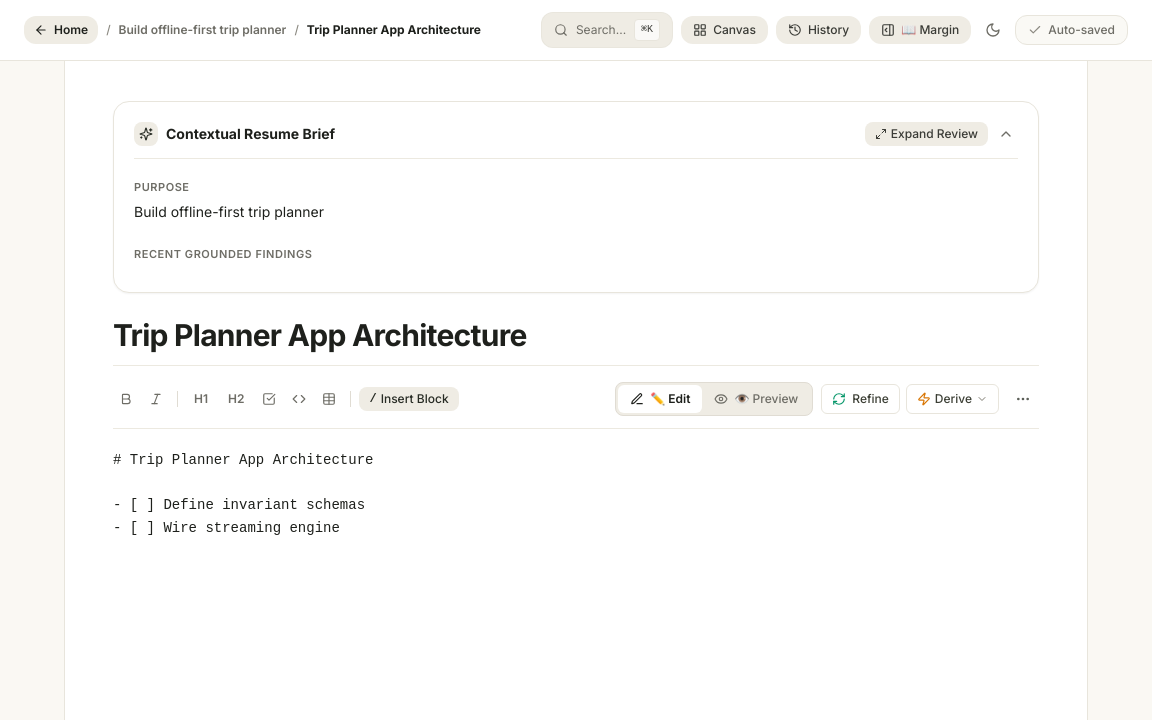
Test: FocusView Layout & Notion-Style Slash Command Experience › renders FocusView in full-height full-width workspace with generous document canvas and collapsible sidebar
Expected: the field with test id "input-artifact-title" holds "Trip Planner App Architecture", [113,317,1039,353]
# Click to open margin
Click the button with test id "btn-toggle-epistemic-margin" at [920, 30], box [869,16,971,44]
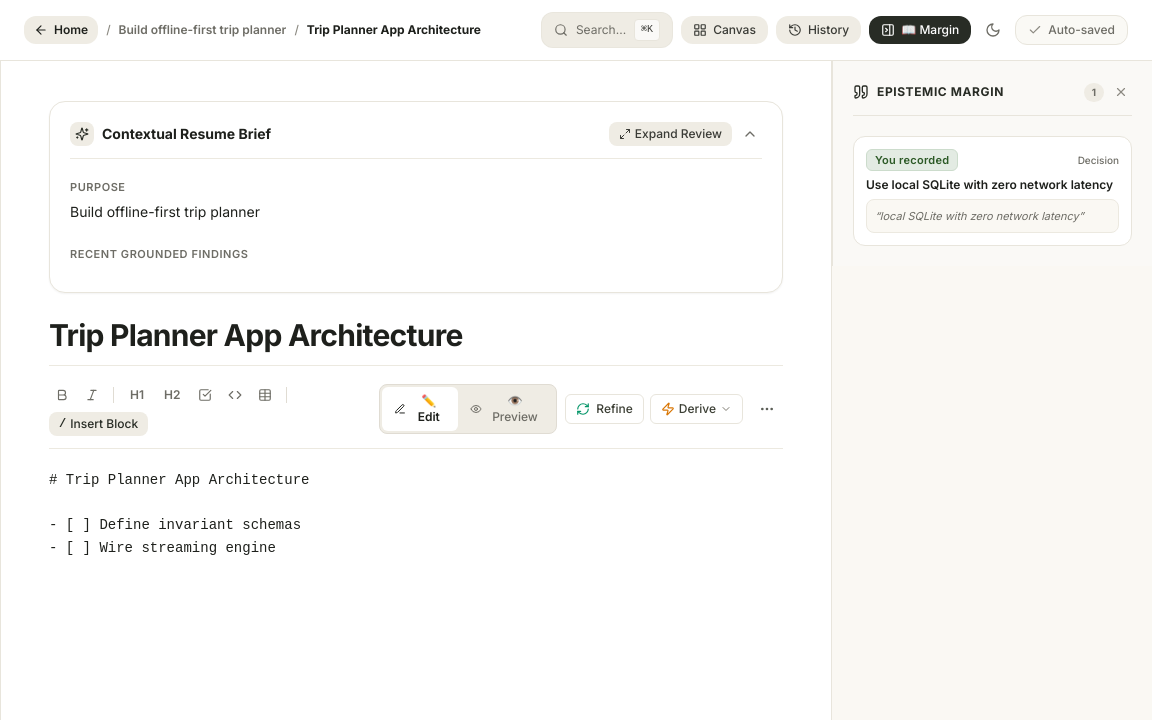
Expected: the element with test id "epistemic-margin-sidebar" is shown, [832,61,1151,266]
# Click again to close
Click the button with test id "btn-toggle-epistemic-margin" at [920, 30], box [869,16,971,44]
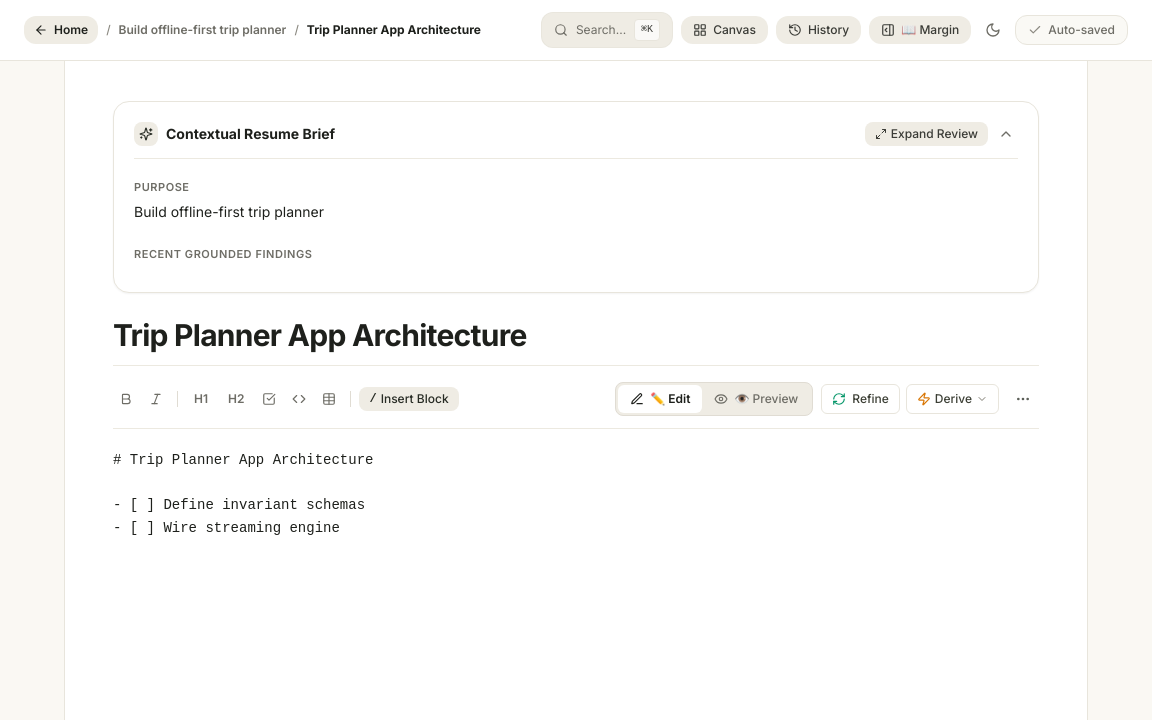
Expected: the button with test id "page-action-menu-trigger" is shown, [1007,383,1039,415]
Expected: the element with test id "epistemic-margin-sidebar" is gone
